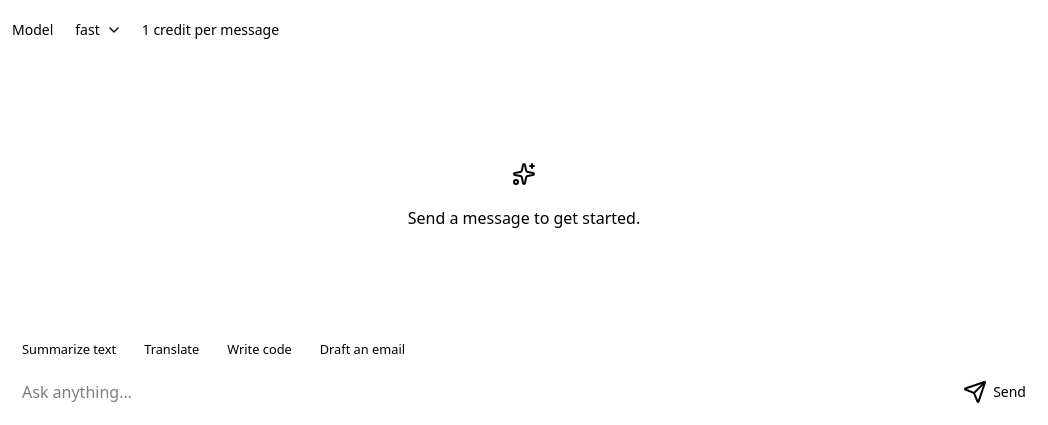
Test: Playground replies and templates › copy reply writes the markdown source to the clipboard
The image size is (1048, 425).
Type "Hi" into the text box at (479, 392), box [12,376,945,408]
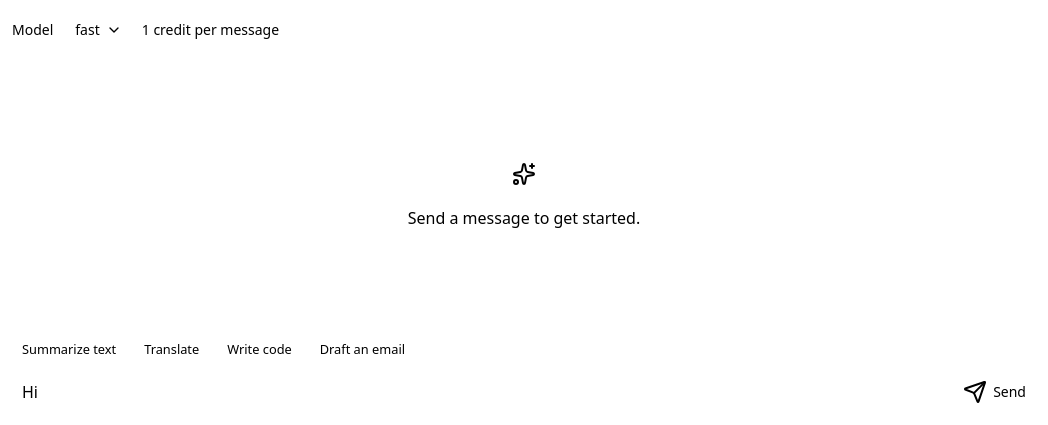
Click the button "Send" at (995, 392), box [953,376,1036,408]
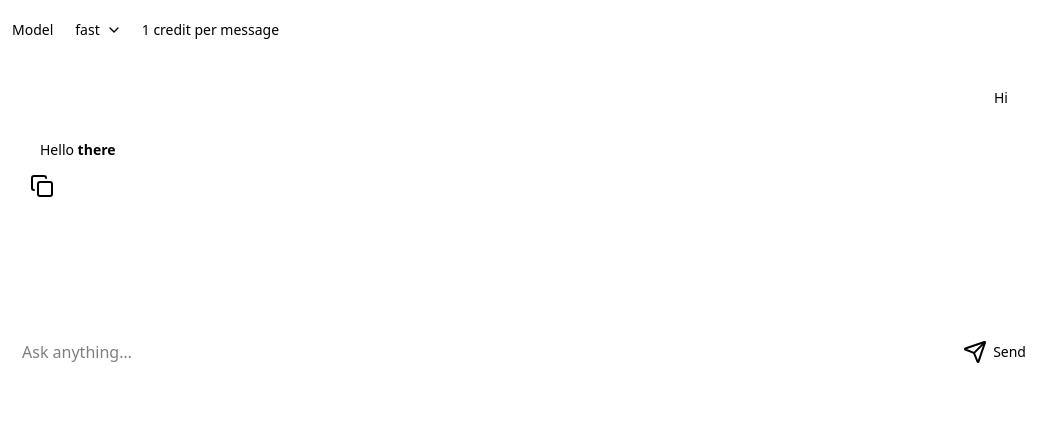
Click the button named "Copy reply" at (42, 186), box [28,172,56,200]
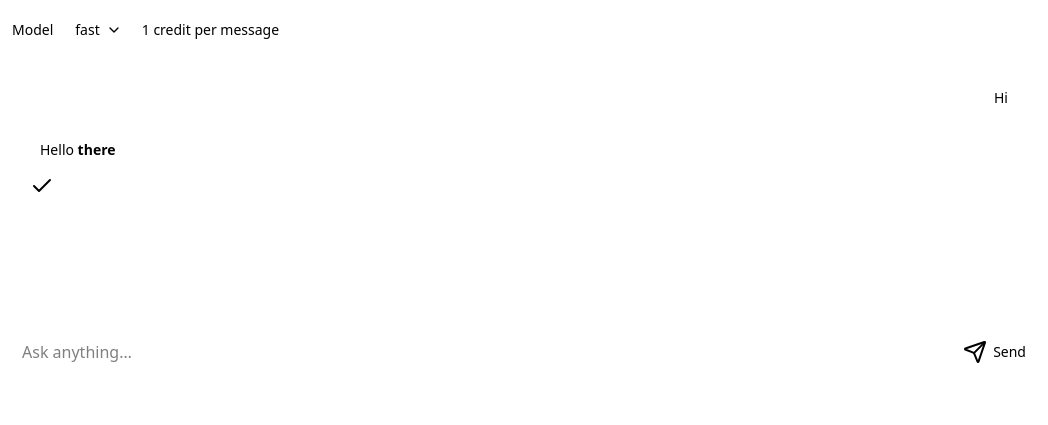
Expected: the button named "Copied" is shown, [28,172,56,200]
